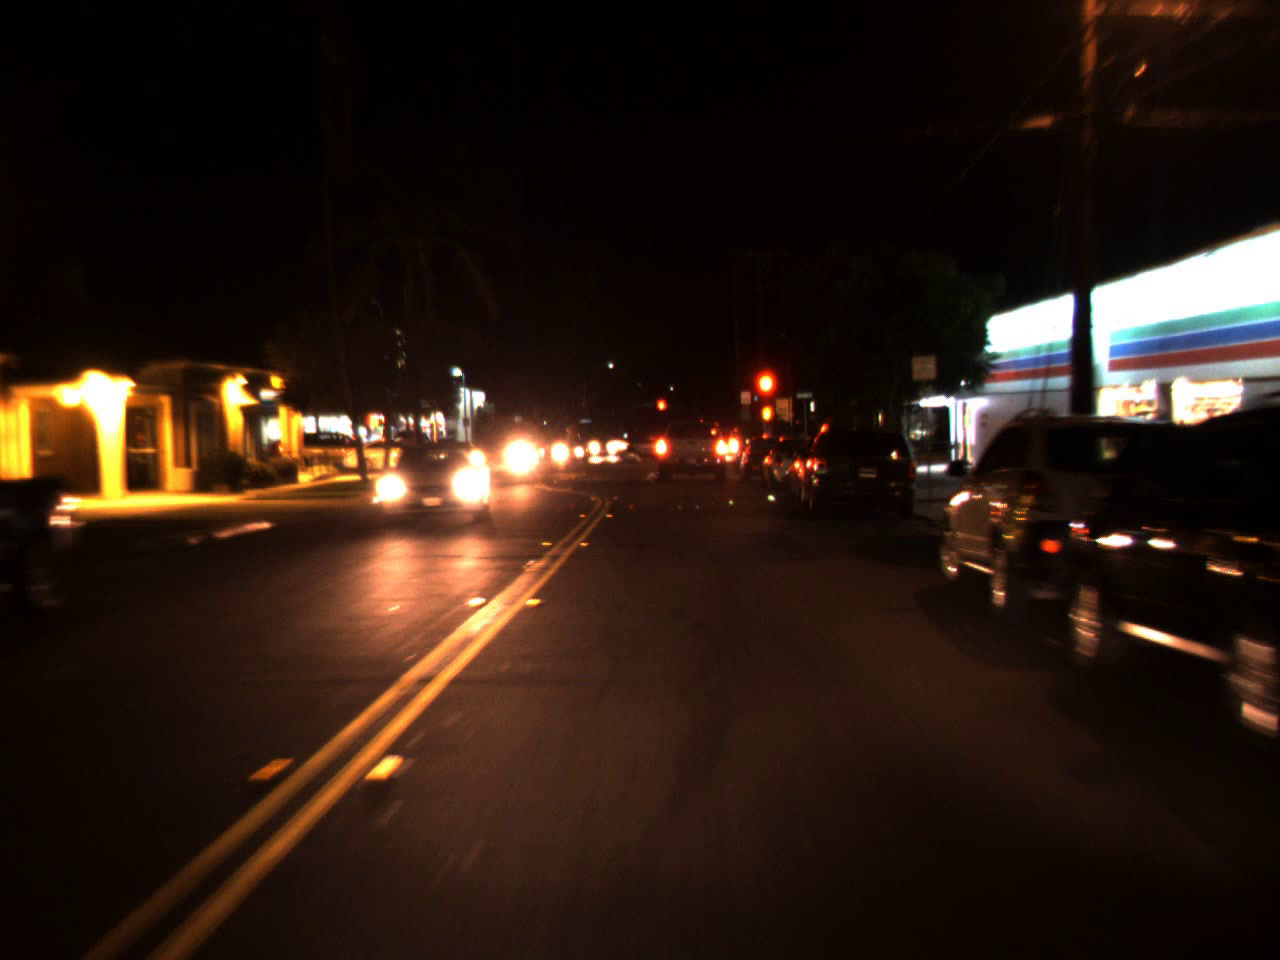stop: (751, 366, 781, 430), (654, 397, 667, 424)
